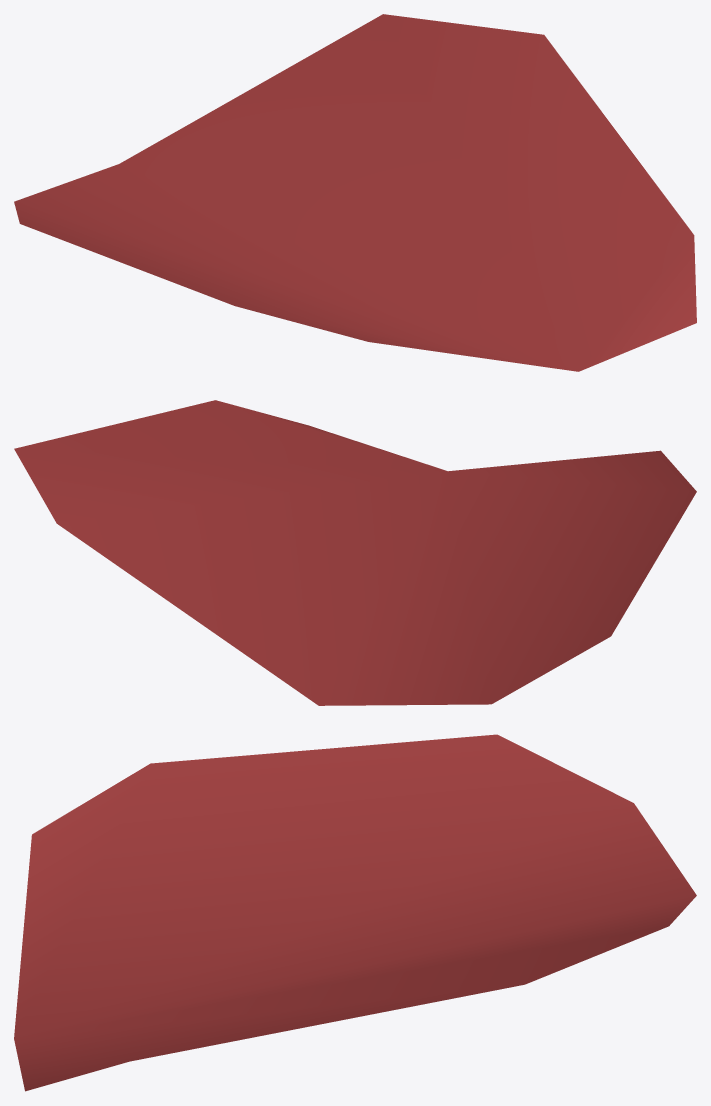
File: long-plantar-ligament-o3l.glb
3 renders of one model, top to bottom at view 1: azimuth 30°, elevation 25°; view 2: azimuth 150°, elevation 25°; view 3: azimuth 270°, elevation 25°, orthographic. The views are drawn at different scales.
Parts seen in each view (by area): view 1: Long plantar ligament.o3l; view 2: Long plantar ligament.o3l; view 3: Long plantar ligament.o3l.
Boxes of the visible parts, x1,y1,x2,y2 form: Long plantar ligament.o3l: (14,14,696,371); Long plantar ligament.o3l: (14,400,696,705); Long plantar ligament.o3l: (14,734,696,1091).
Size of the model in its own units: 0.00534 by 0.00129 by 0.00499.
